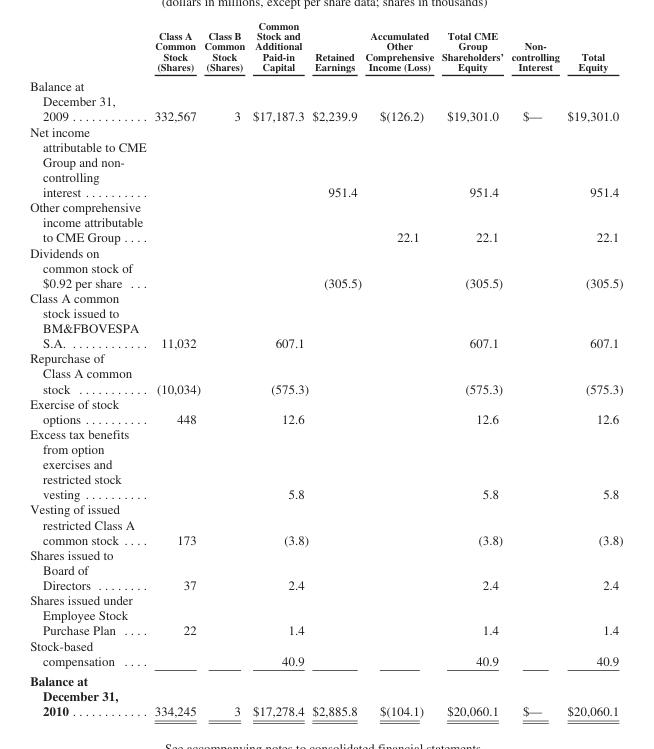table: (29, 29, 622, 717)
table column: (29, 29, 149, 717), (362, 29, 437, 717), (437, 29, 506, 717), (248, 29, 309, 717), (562, 29, 622, 717), (506, 29, 562, 717), (309, 29, 362, 717), (149, 29, 201, 717), (201, 29, 248, 717)
table column header: (29, 29, 622, 75)
table row: (29, 123, 622, 199), (29, 425, 622, 501), (29, 289, 622, 350), (29, 75, 622, 123), (29, 670, 622, 717), (29, 29, 622, 75), (29, 546, 622, 592), (29, 199, 622, 244), (29, 244, 622, 289), (29, 350, 622, 395), (29, 501, 622, 546), (29, 592, 622, 637), (29, 637, 622, 670), (29, 395, 622, 425)
